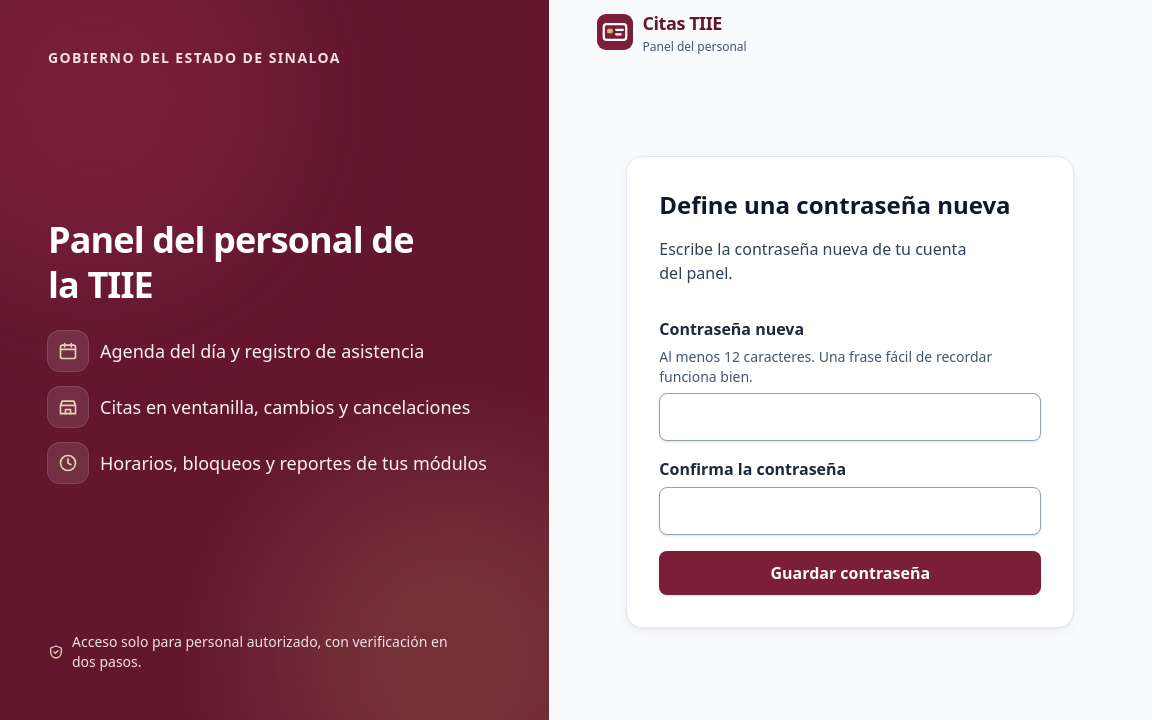
Test: Restablecer la contraseña con el enlace del correo › al guardar invita a entrar
This screenshot has width=1152, height=720.
Type "una frase larga y segura" into the password field labelled "Contraseña nueva" at [850, 417], box x1=659 y1=393 x2=1041 y2=441
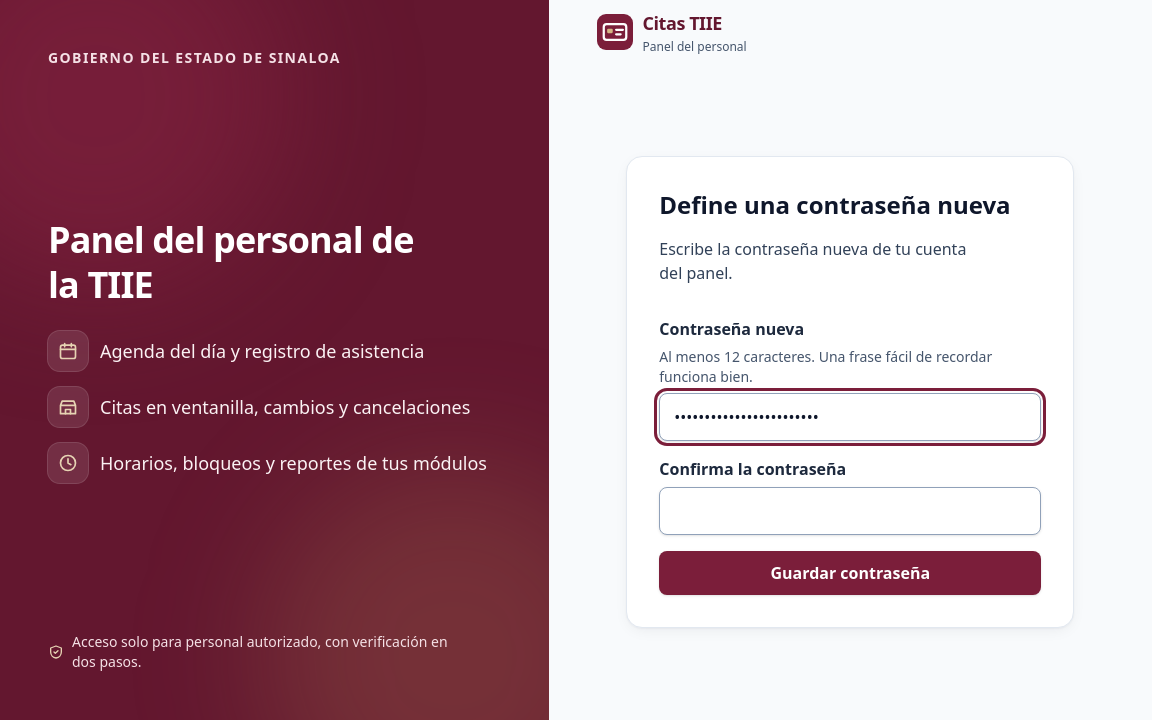
Type "una frase larga y segura" into the password field labelled "Confirma la contraseña" at [850, 511], box x1=659 y1=487 x2=1041 y2=535
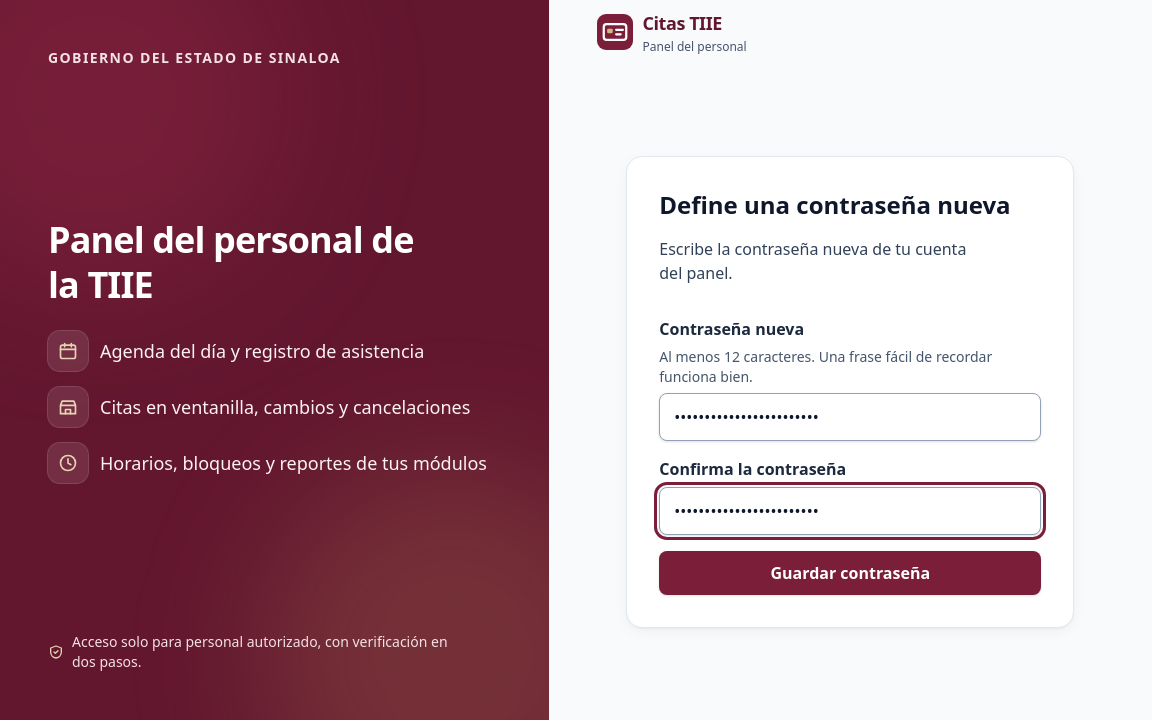
Click the button "Guardar contraseña" at [850, 573], box x1=659 y1=551 x2=1041 y2=595
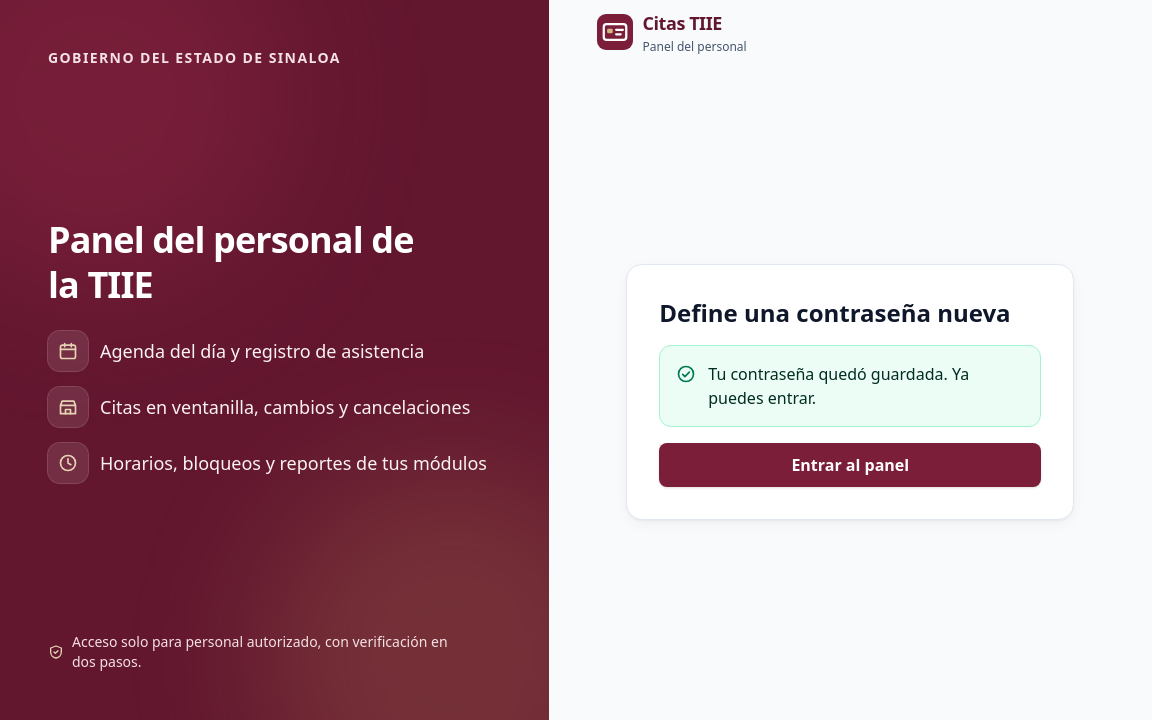
Expected: the text "Tu contraseña quedó guardada. Ya puedes entrar." is shown, x1=708 y1=363 x2=969 y2=409
